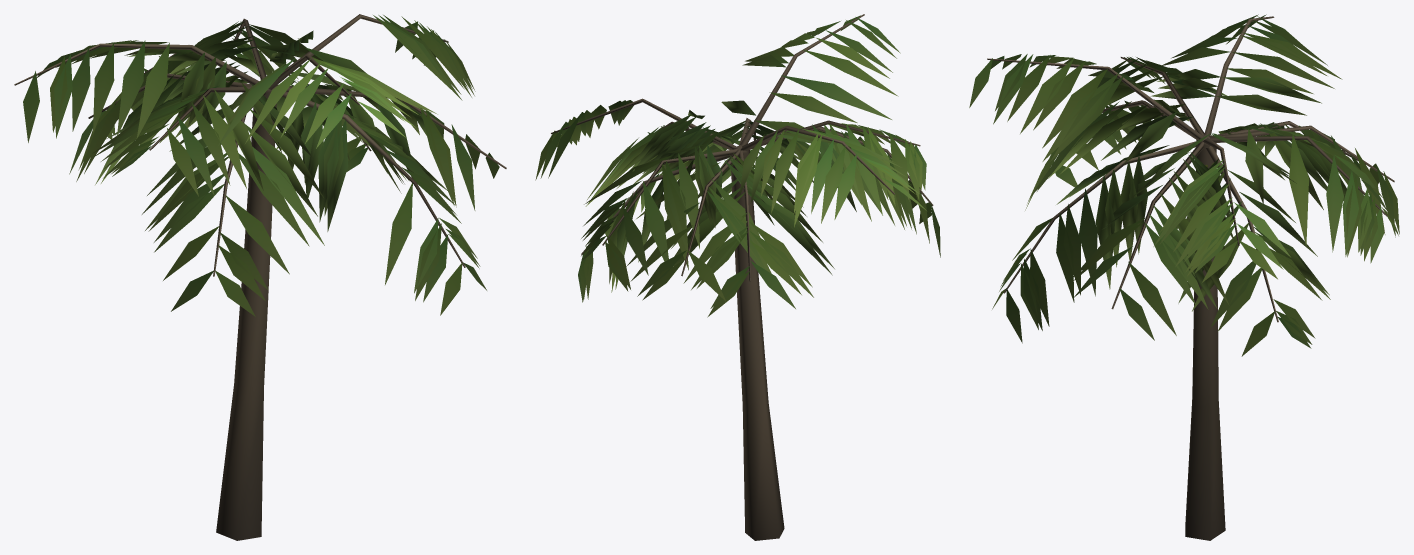
File: palm-c.lod2.glb
3 renders of one model, left to right at view 1: azimuth 30°, elevation 25°; view 2: azimuth 150°, elevation 25°; view 3: azimuth 270°, elevation 25°, orthographic. The views are drawn at different scales.
Size of the model in its own units: 5.84 by 6.7 by 5.42.
